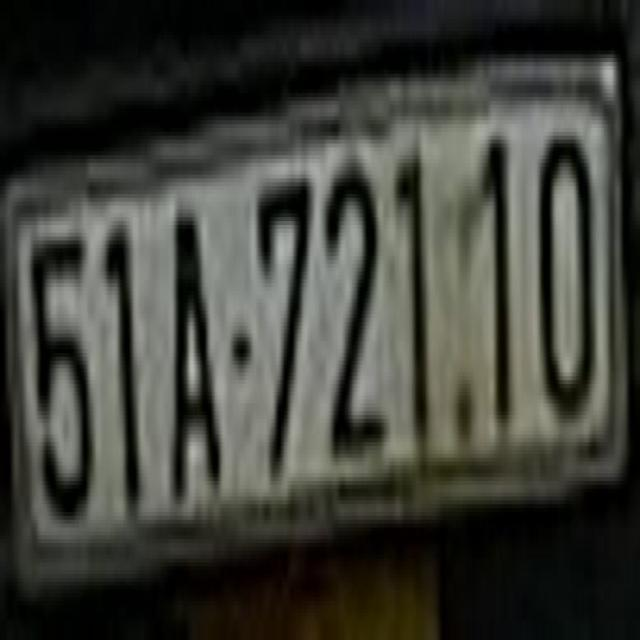0: (536, 112, 596, 423)
1: (103, 218, 141, 532), (398, 143, 435, 454), (479, 140, 515, 446)
2: (322, 159, 394, 465)
5: (29, 229, 94, 535)
7: (255, 170, 313, 492)
A: (163, 187, 221, 500)
